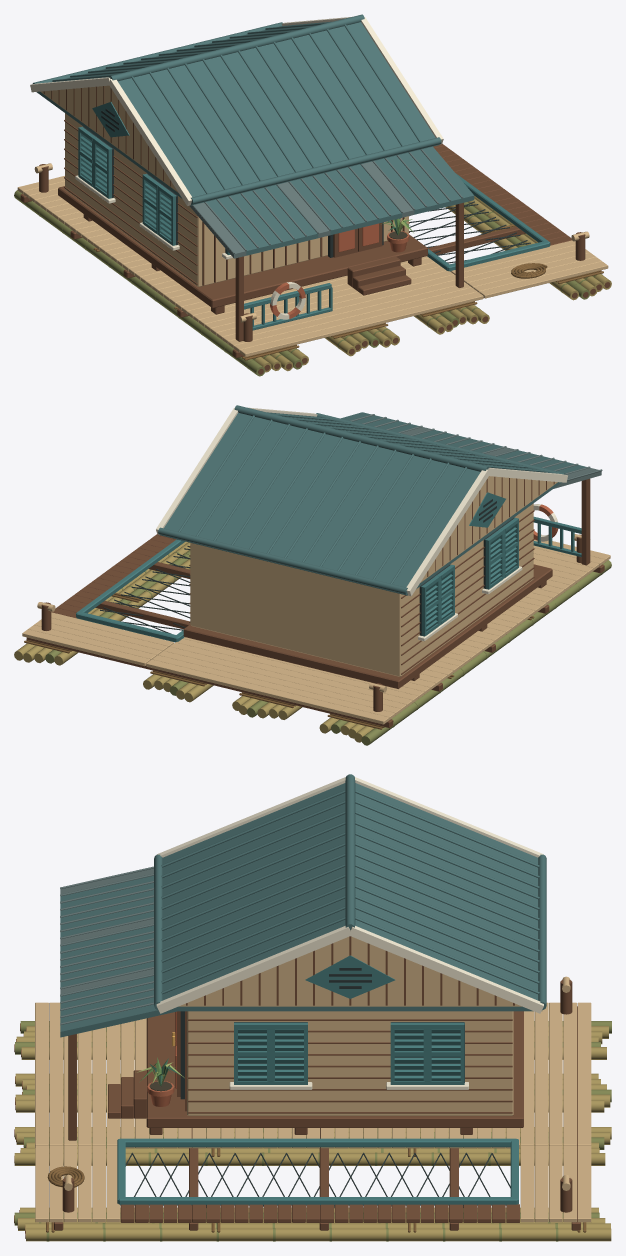
3 views of the same model, one above another, from view 1: azimuth 30°, elevation 25°; view 2: azimuth 150°, elevation 25°; view 3: azimuth 270°, elevation 25° (orthographic). The views are drawn at different scales.
Visible parts, largest first — view 1: Pitched roof, Raised boardwalk and cage, River dwelling, Verandah roof, Lashed bamboo pontoons, Louvred shutters, Raking bargeboards, Stair treads, Verandah rails, Entrance joinery, Potted pandan; view 2: Pitched roof, River dwelling, Raised boardwalk and cage, Lashed bamboo pontoons, Louvred shutters, Raking bargeboards, Verandah roof, Verandah rails; view 3: Pitched roof, Raised boardwalk and cage, River dwelling, Lashed bamboo pontoons, Verandah roof, Louvred shutters, Raking bargeboards, Stair treads, Potted pandan, Entrance joinery.
Boxes of the visible parts, left/top/right/bottom form: Pitched roof: left=32, top=14, right=441, bottom=205; Raised boardwalk and cage: left=17, top=144, right=608, bottom=358; River dwelling: left=40, top=85, right=463, bottom=341; Verandah roof: left=189, top=146, right=474, bottom=258; Lashed bamboo pontoons: left=14, top=190, right=611, bottom=376; Louvred shutters: left=75, top=126, right=232, bottom=259; Raking bargeboards: left=30, top=16, right=443, bottom=205; Stair treads: left=347, top=256, right=411, bottom=295; Verandah rails: left=244, top=283, right=332, bottom=330; Entrance joinery: left=328, top=222, right=383, bottom=257; Potted pandan: left=381, top=218, right=413, bottom=252; Pitched roof: left=158, top=405, right=565, bottom=595; River dwelling: left=183, top=476, right=590, bottom=688; Raised boardwalk and cage: left=22, top=504, right=610, bottom=728; Lashed bamboo pontoons: left=14, top=541, right=611, bottom=745; Louvred shutters: left=418, top=517, right=522, bottom=641; Raking bargeboards: left=156, top=407, right=567, bottom=596; Verandah roof: left=340, top=412, right=602, bottom=488; Verandah rails: left=533, top=516, right=581, bottom=556; Pitched roof: left=154, top=774, right=546, bottom=1011; Raised boardwalk and cage: left=35, top=976, right=591, bottom=1230; River dwelling: left=68, top=936, right=523, bottom=1140; Lashed bamboo pontoons: left=14, top=1021, right=611, bottom=1241; Verandah roof: left=60, top=866, right=176, bottom=1037; Louvred shutters: left=229, top=1022, right=468, bottom=1089; Raking bargeboards: left=156, top=777, right=543, bottom=1013; Stair treads: left=108, top=1070, right=146, bottom=1118; Potted pandan: left=137, top=1057, right=184, bottom=1106; Entrance joinery: left=172, top=1011, right=184, bottom=1099.
Size of the model in its own units: 10.05 by 5.31 by 11.52.
